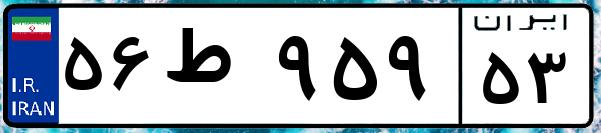3: (525, 38, 570, 115)
5: (330, 28, 385, 110), (57, 26, 110, 100), (475, 38, 525, 113)
6: (110, 28, 158, 98)
9: (270, 28, 330, 110), (385, 28, 445, 110)
ط: (158, 20, 270, 120)
